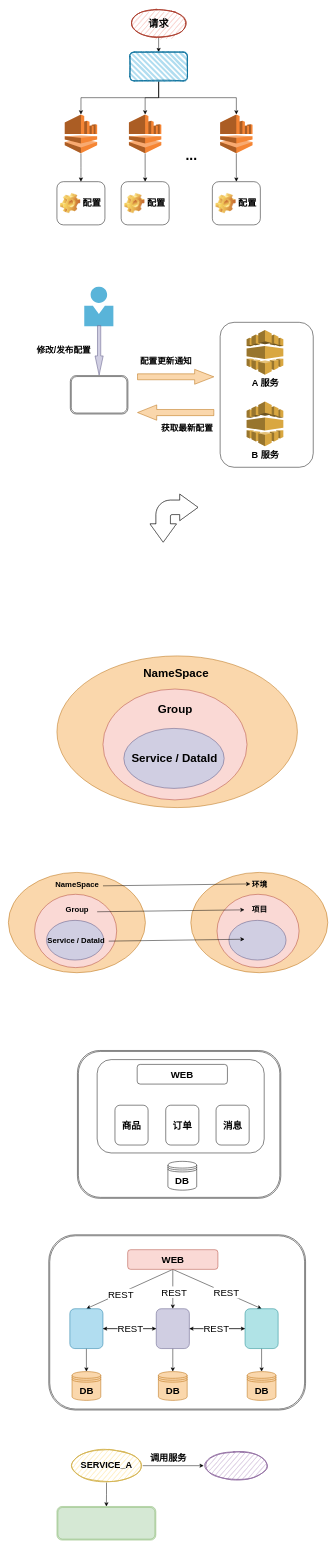
This 336x1548 diagram has some shape labels left out. Each missing label, with the centre of its shape:
"SERVICE_B" belongs at point 236,1465.
"service_b 网络信息（ip:port）" belongs at point 106,1523.
"商品 服务" belongs at point 86,1328.
"工程" belongs at point 257,940.
"微服务架构" belongs at point 158,66.
"消息 服务" belongs at point 261,1328.
"订单 服务" belongs at point 172,1328.
"配置中心" belongs at point 99,394.
